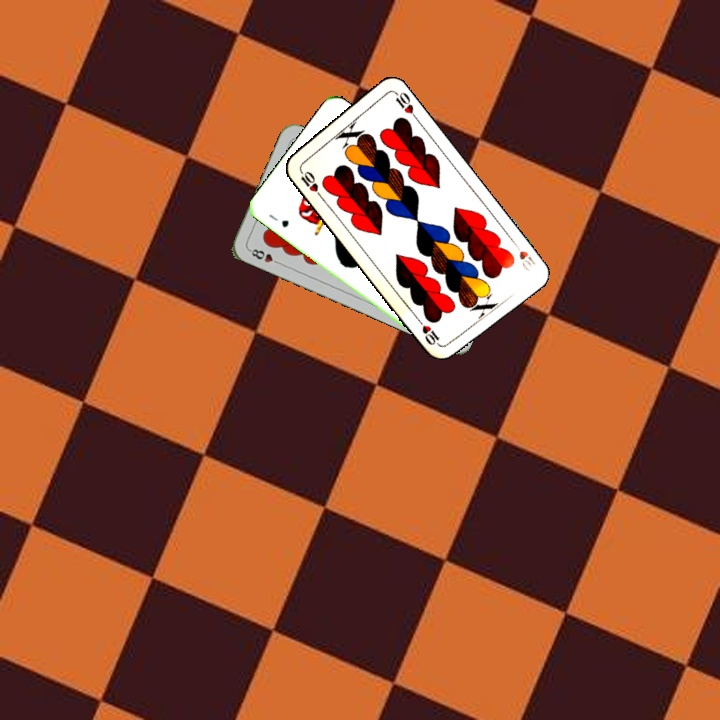GU: (265, 210, 292, 230)
H10: (508, 237, 538, 274), (295, 164, 321, 194)
H8: (245, 245, 284, 267)
